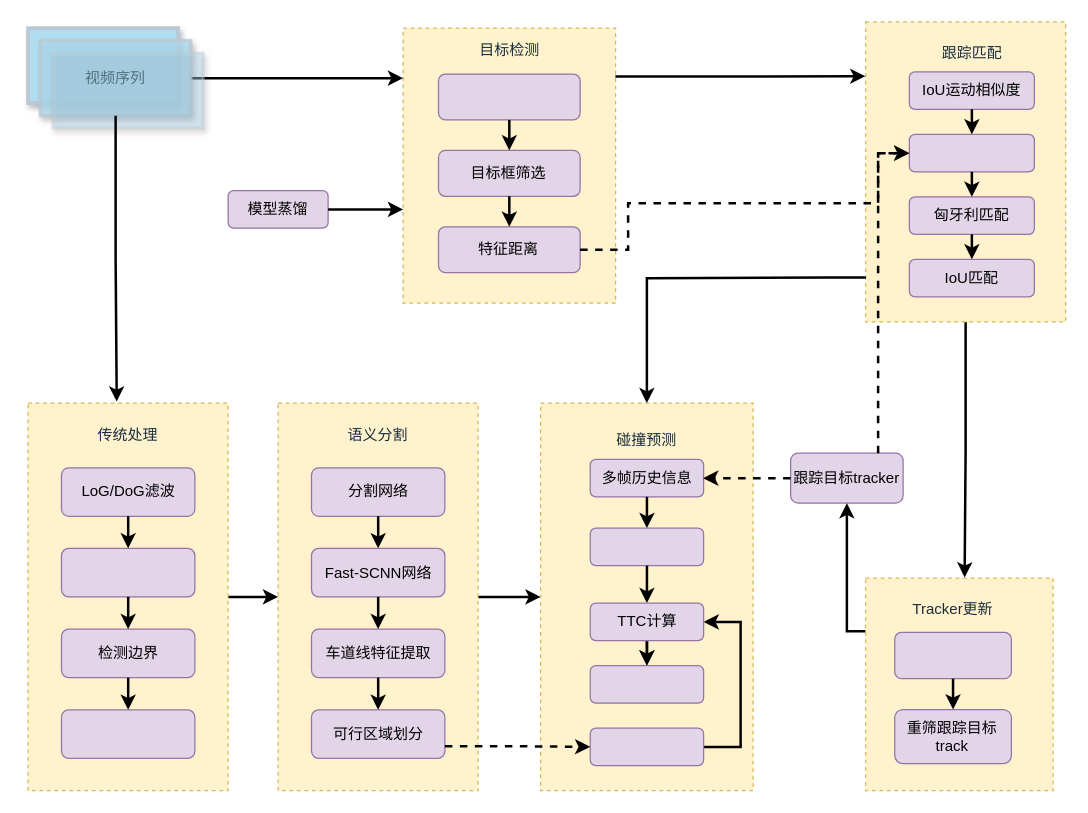
Some shapes in this 1088 by 813 pixel diagram are drawn without their labels. Here are the shapes that lost their labels. From the top down, the centre of each, then its label:
[508,96]: YOLOv5目标检测
[971,152]: 融合矩阵
[646,546]: 时空特征融合
[127,572]: Gabor滤波
[952,655]: 卡尔曼滤波矩阵
[646,683]: 碰撞概率估计
[127,733]: 多项式拟合
[646,746]: 位置轨迹预测
